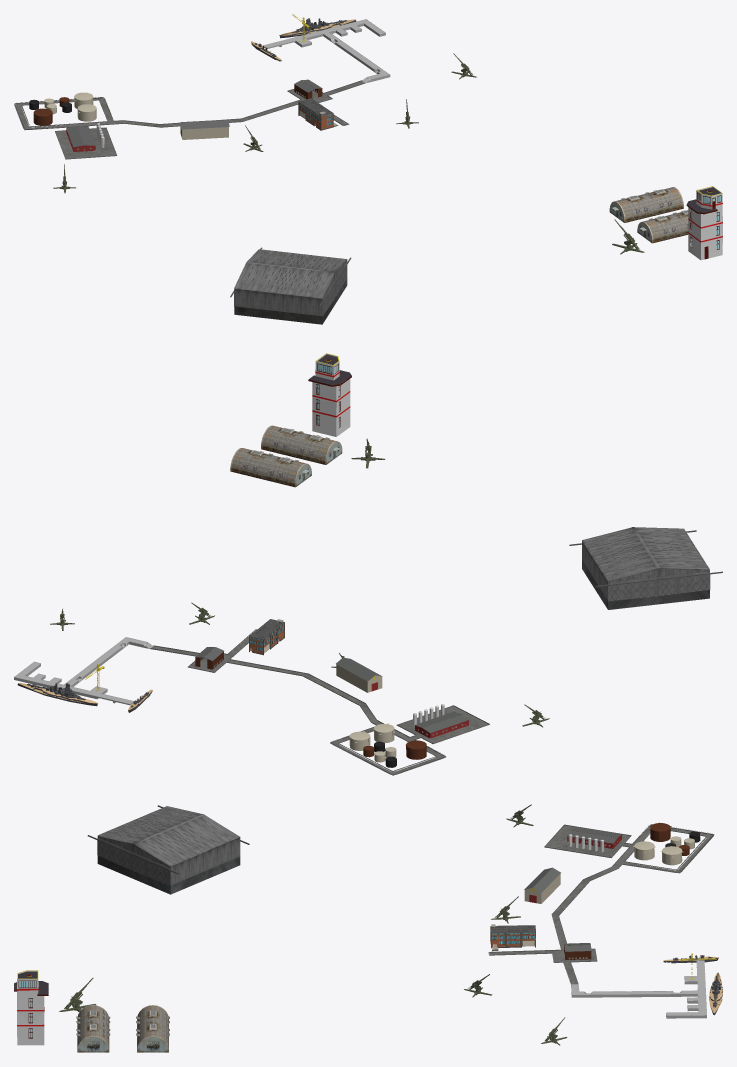
Rendered from Truk.glb.
3 renders of one model, top to bottom at view 1: azimuth 30°, elevation 25°; view 2: azimuth 150°, elevation 25°; view 3: azimuth 270°, elevation 25°, orthographic. The views are drawn at different scales.
Parts seen in each view (by area): view 1: factory_port_06:middle_tank07_factory_port_06:tank_blue_0, Object_2, German.Control.Tower.1.700, Cylinder001_Barrack Texture Map_0.002, Cylinder001_Barrack Texture Map_0.001; view 2: factory_port_06:middle_tank07_factory_port_06:tank_blue_0, Object_2, German.Control.Tower.1.700, Cylinder001_Barrack Texture Map_0.002, Cylinder001_Barrack Texture Map_0.001; view 3: factory_port_06:middle_tank07_factory_port_06:tank_blue_0, Object_2, German.Control.Tower.1.700, Cylinder001_Barrack Texture Map_0.001, Cylinder001_Barrack Texture Map_0.002.
Part boxes in pixels (x1=…): factory_port_06:middle_tank07_factory_port_06:tank_blue_0: x1=14, y1=14, x2=390, y2=159; Object_2: x1=230, y1=247, x2=351, y2=324; German.Control.Tower.1.700: x1=686, y1=186, x2=722, y2=260; Cylinder001_Barrack Texture Map_0.002: x1=609, y1=187, x2=683, y2=222; Cylinder001_Barrack Texture Map_0.001: x1=637, y1=210, x2=688, y2=243; factory_port_06:middle_tank07_factory_port_06:tank_blue_0: x1=14, y1=619, x2=489, y2=775; Object_2: x1=569, y1=527, x2=722, y2=609; German.Control.Tower.1.700: x1=308, y1=353, x2=351, y2=436; Cylinder001_Barrack Texture Map_0.002: x1=230, y1=448, x2=311, y2=487; Cylinder001_Barrack Texture Map_0.001: x1=261, y1=425, x2=342, y2=464; factory_port_06:middle_tank07_factory_port_06:tank_blue_0: x1=488, y1=822, x2=722, y2=1018; Object_2: x1=87, y1=805, x2=249, y2=894; German.Control.Tower.1.700: x1=14, y1=970, x2=48, y2=1045; Cylinder001_Barrack Texture Map_0.001: x1=76, y1=1005, x2=110, y2=1052; Cylinder001_Barrack Texture Map_0.002: x1=136, y1=1005, x2=169, y2=1052.
Size of the model in its own units: 206 by 30.66 by 261.
33 materials, 5 textured.
